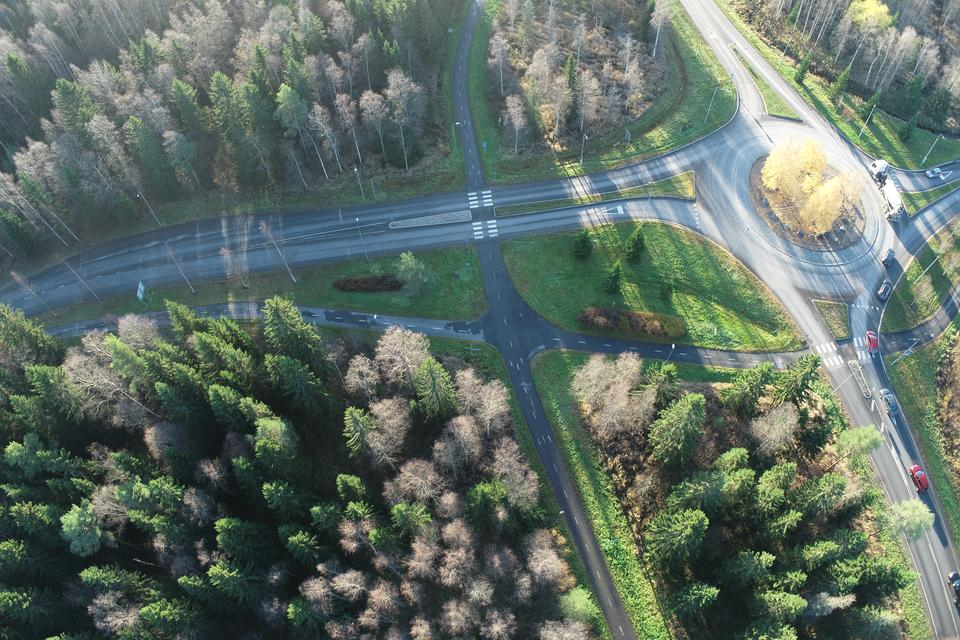intersection: (780, 314, 912, 381), (453, 161, 520, 259)
roundabout: (650, 87, 940, 307)
